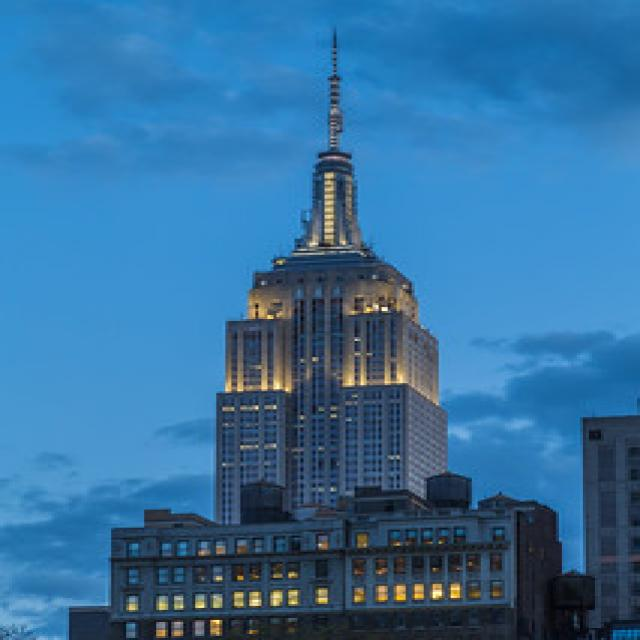Normal_building: (96, 145, 556, 635)
